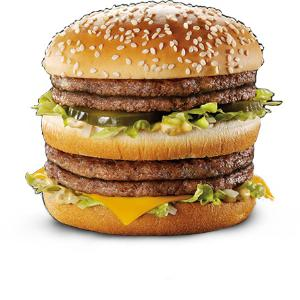cheeseburger: (15, 1, 280, 233)
